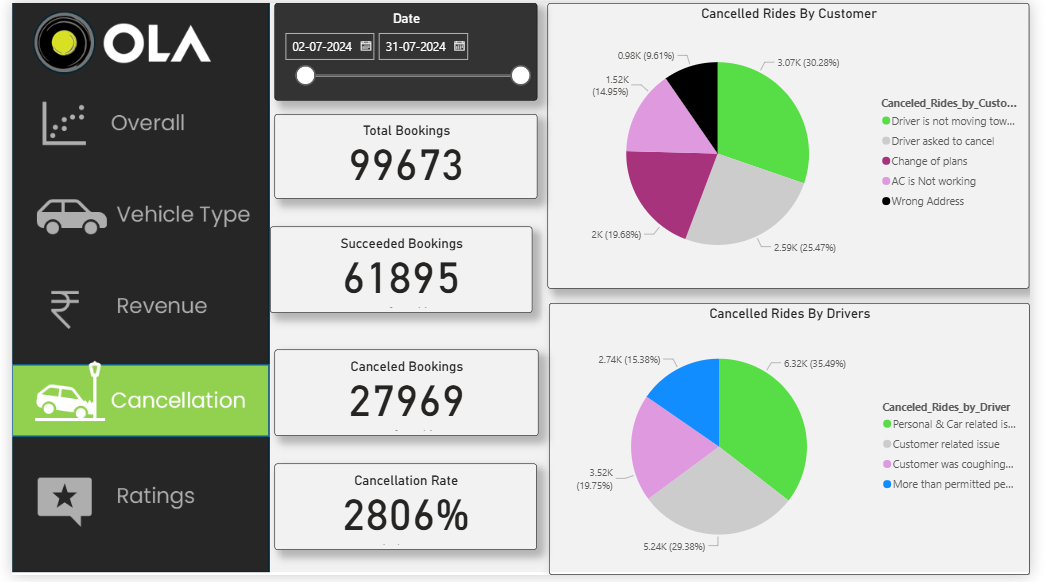

What the dashboard file says about the page in this screenshot:
{"tool":"powerbi","page":{"name":"Cancellation","canvas":[1280,720],"ordinal":3},"visuals":[{"type":"actionButton","box":[0,447,324.5,101.8],"z":0},{"type":"actionButton","box":[0,210,324.5,98.6],"z":1000},{"type":"actionButton","box":[0,345.2,324.5,90.7],"z":2000},{"type":"actionButton","box":[0,579,324.5,85.9],"z":3000},{"type":"pieChart","title":"Cancelled Rides By Customer","fields":{"Category":["July.Canceled_Rides_by_Customer"],"Y":["CountNonNull(July.Canceled_Rides_by_Customer)"]},"box":[674,0,606,359.5],"z":4000},{"type":"pieChart","title":"Cancelled Rides By Drivers","fields":{"Category":["July.Canceled_Rides_by_Driver"],"Y":["CountNonNull(July.Canceled_Rides_by_Driver)"]},"box":[674.7,378,604.7,342],"z":5000},{"type":"slicer","title":"Date","fields":{"Values":["July.Date"]},"box":[329.3,0,330.8,122.5],"z":6000},{"type":"card","title":"Total Bookings","fields":{"Values":["CountNonNull(July.Booking_ID)"]},"box":[329.3,140,330.8,106.6],"z":7000},{"type":"card","title":"Succeeded Bookings","fields":{"Values":["CountNonNull(July.Booking_ID)"]},"box":[325,281.7,330,108.3],"z":7001},{"type":"card","title":"Canceled Bookings","fields":{"Values":["CountNonNull(July.Booking_ID)"]},"box":[330,435,331.7,108.3],"z":7002},{"type":"card","title":"Cancellation Rate","fields":{"Values":["July.Canceledpercentage"]},"box":[330,578.3,330,108.3],"z":7003}]}

Visuals, with their boxes in screenshot pixels (x1, y1, x2, y2), scaled from the page's 1280x720 canvas onto the 1045x582 screenshot:
actionButton: <bbox>0, 361, 265, 444</bbox>
actionButton: <bbox>0, 170, 265, 249</bbox>
actionButton: <bbox>0, 279, 265, 352</bbox>
actionButton: <bbox>0, 468, 265, 537</bbox>
"Cancelled Rides By Customer" pieChart: <bbox>550, 0, 1044, 291</bbox>
"Cancelled Rides By Drivers" pieChart: <bbox>551, 306, 1044, 581</bbox>
"Date" slicer: <bbox>269, 0, 539, 99</bbox>
"Total Bookings" card: <bbox>269, 113, 539, 199</bbox>
"Succeeded Bookings" card: <bbox>265, 228, 535, 315</bbox>
"Canceled Bookings" card: <bbox>269, 352, 540, 439</bbox>
"Cancellation Rate" card: <bbox>269, 467, 539, 555</bbox>
